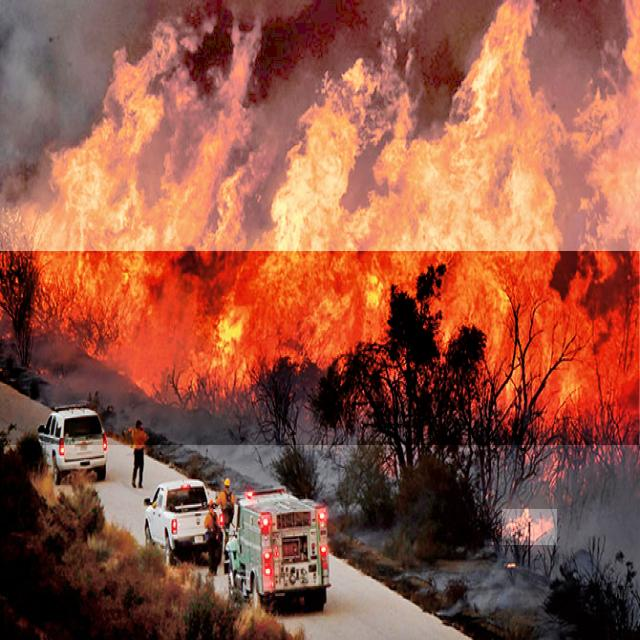Fire: (0, 0, 639, 445), (502, 509, 557, 545)
Smoke: (0, 0, 640, 251)
